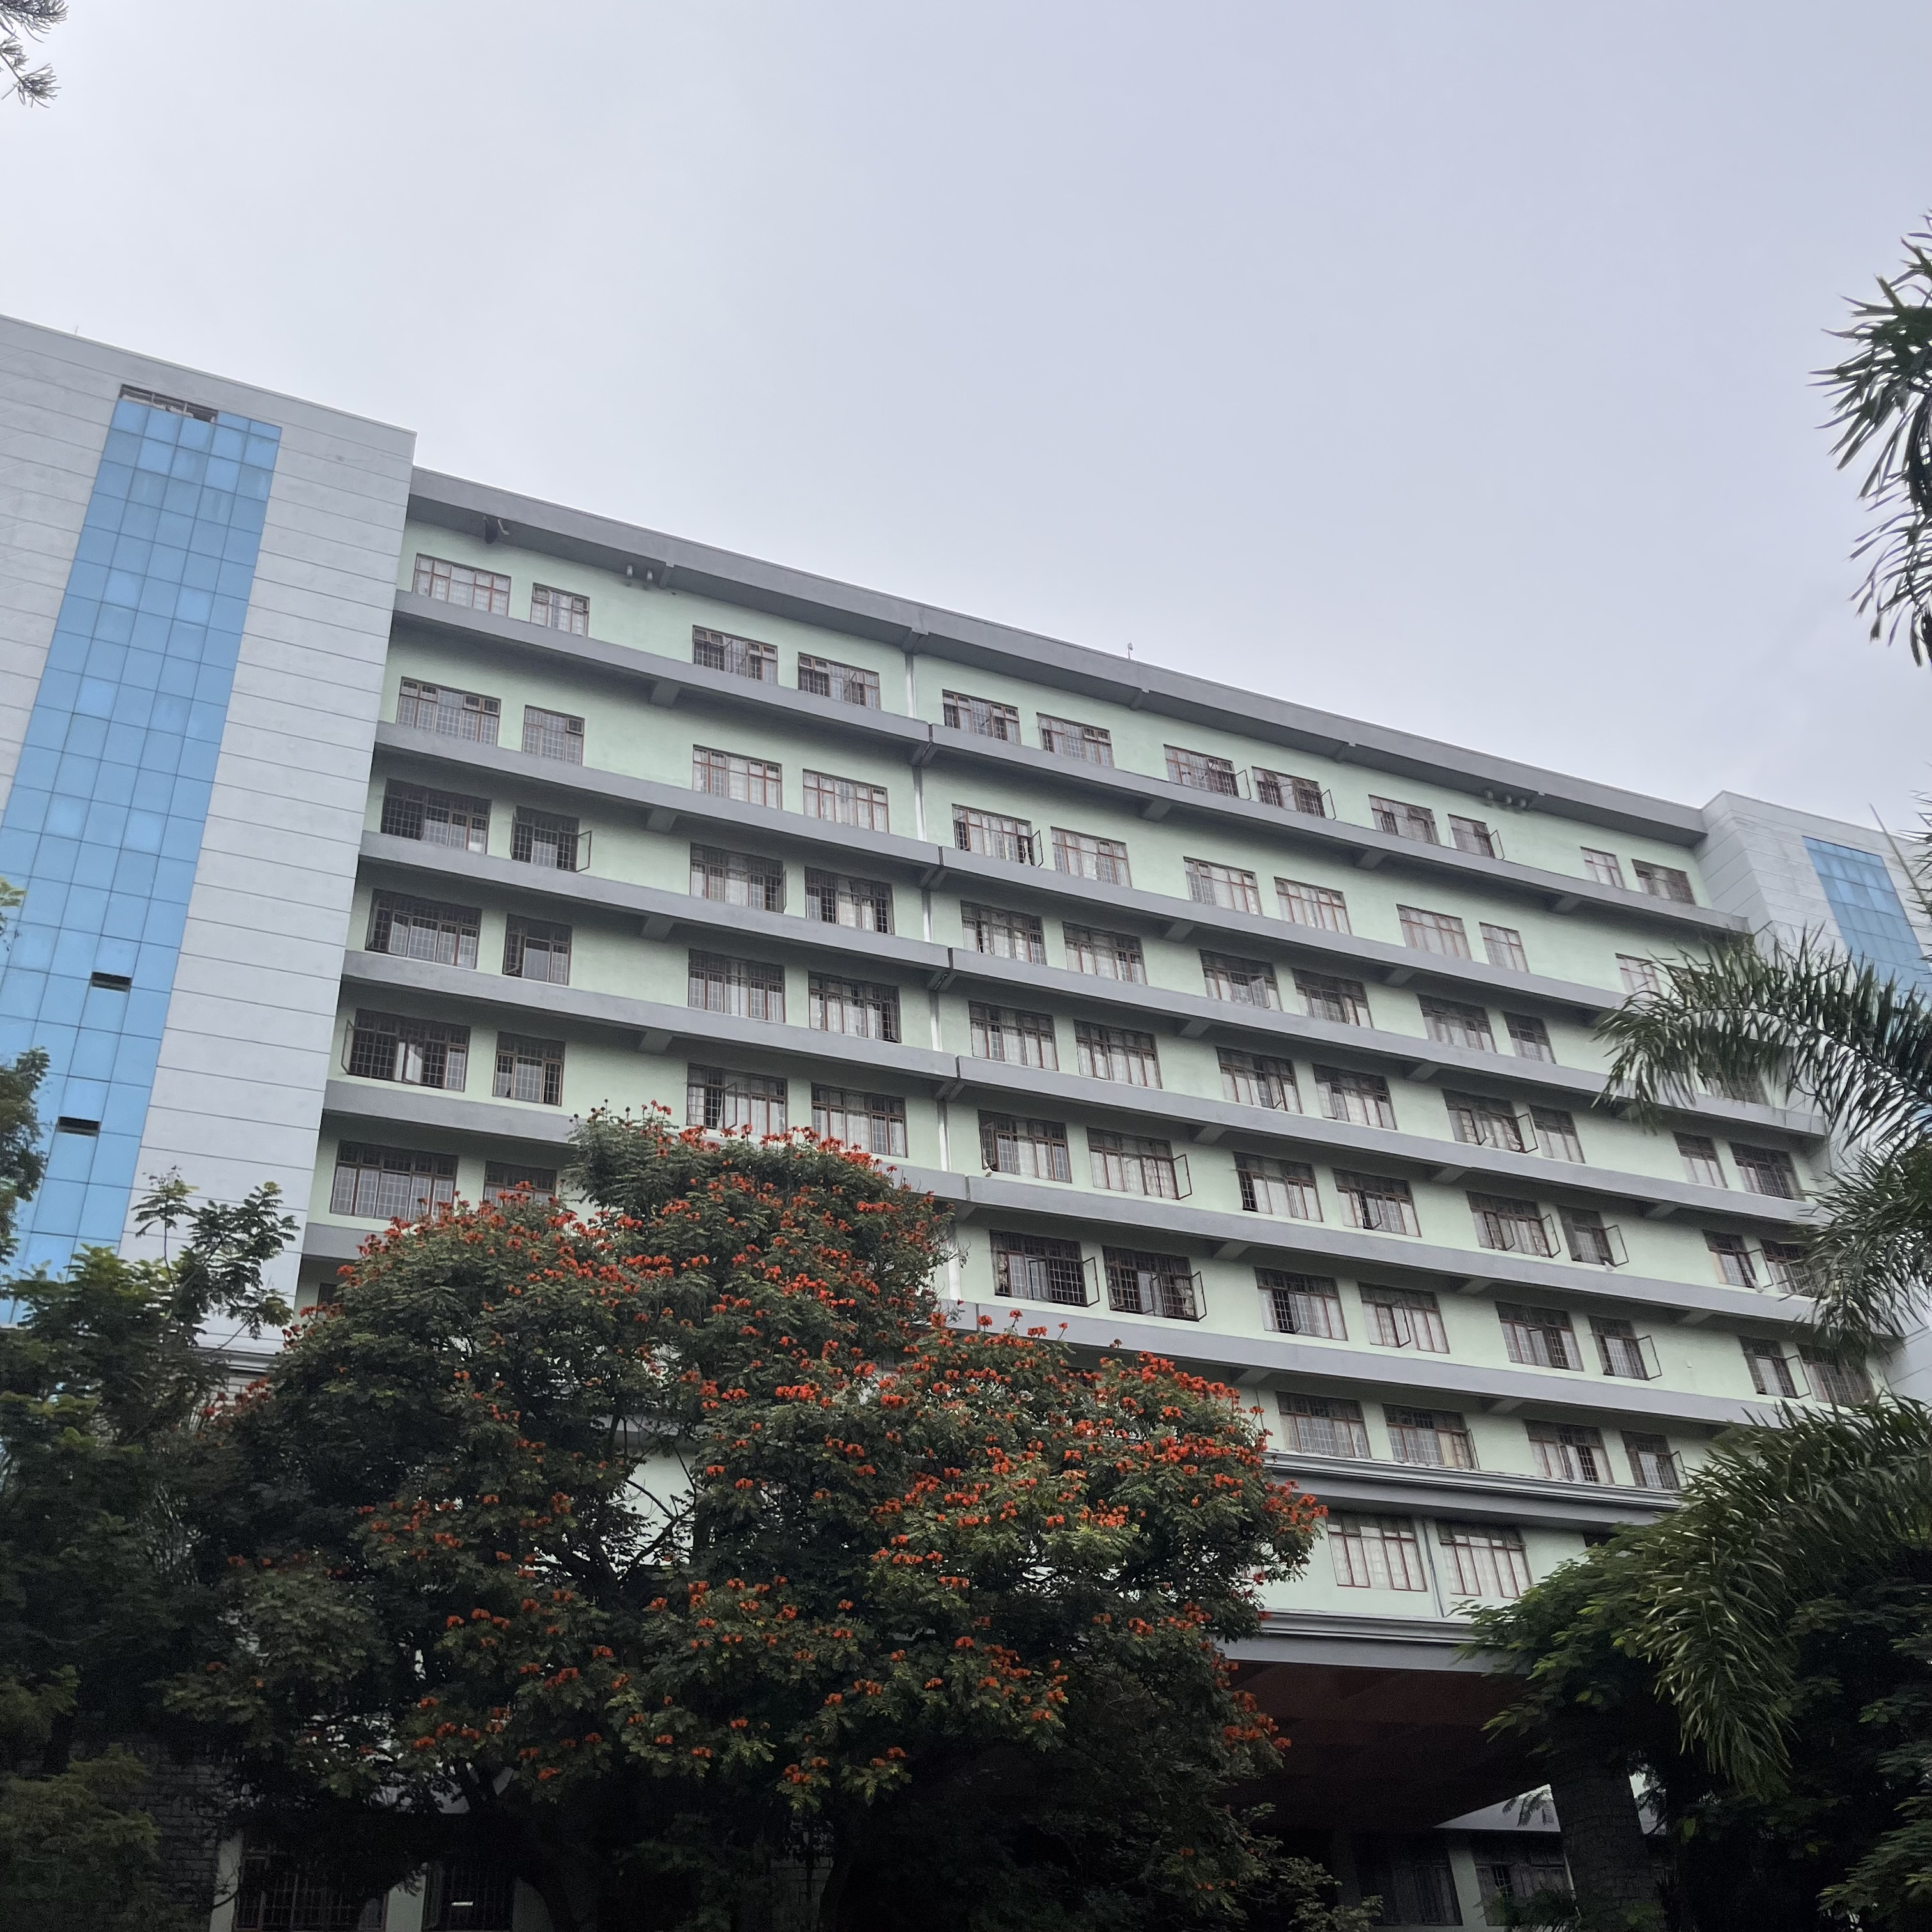Central Block: (5, 269, 1932, 1589)
